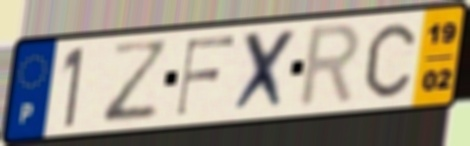1: (61, 44, 86, 130)
C: (362, 20, 418, 100)
F: (173, 33, 239, 119)
R: (294, 20, 365, 112)
X: (228, 25, 300, 117)
Z: (100, 38, 174, 128)
